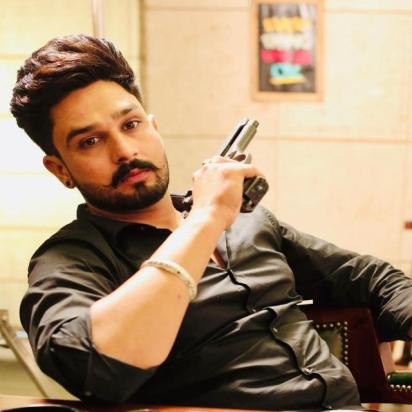Gun: (179, 117, 272, 220)
